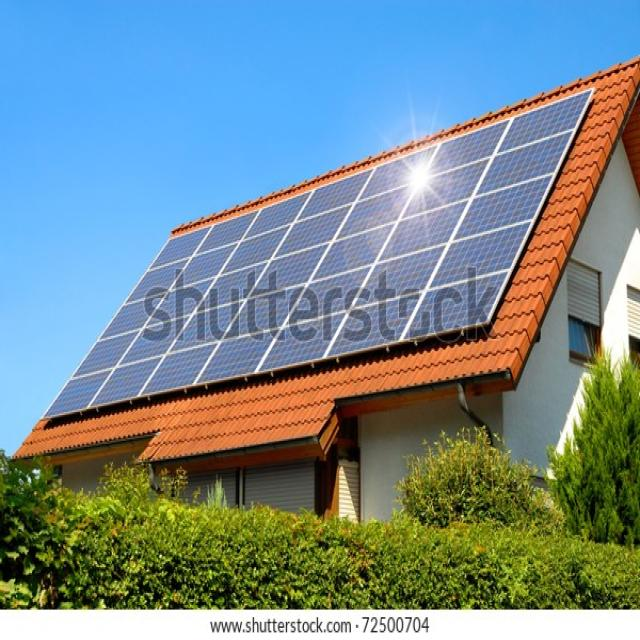clean-solar-panel: (46, 92, 592, 419)
